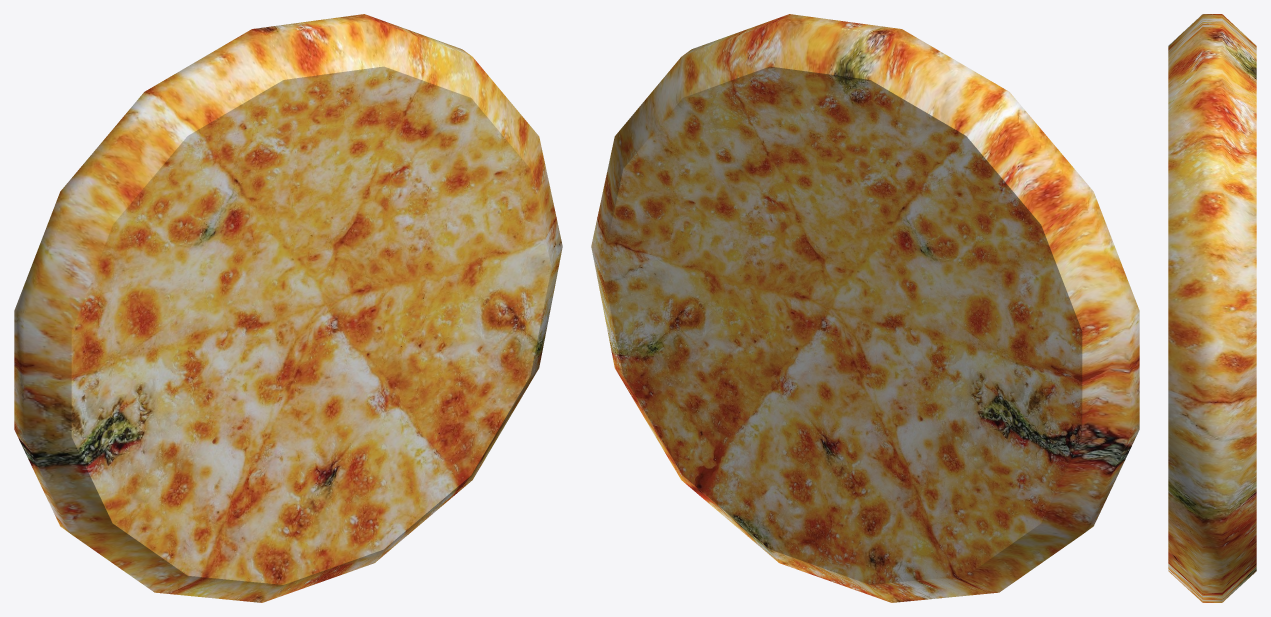
The model's file is piza_003.FBX.
The picture shows the model from 3 angles, left to right: view 1: azimuth 30°, elevation 25°; view 2: azimuth 150°, elevation 25°; view 3: azimuth 270°, elevation 25°; orthographic projection. The views are drawn at different scales.
Visible parts, largest first — view 1: Cylinder001; view 2: Cylinder001; view 3: Cylinder001.
Boxes of the visible parts, x1,y1,x2,y2 form: Cylinder001: (14,14,562,602); Cylinder001: (591,14,1139,602); Cylinder001: (1168,14,1256,602).
Size of the model in its own units: 165 by 166 by 24.92.
Materials: 1 (1 with a texture image).
